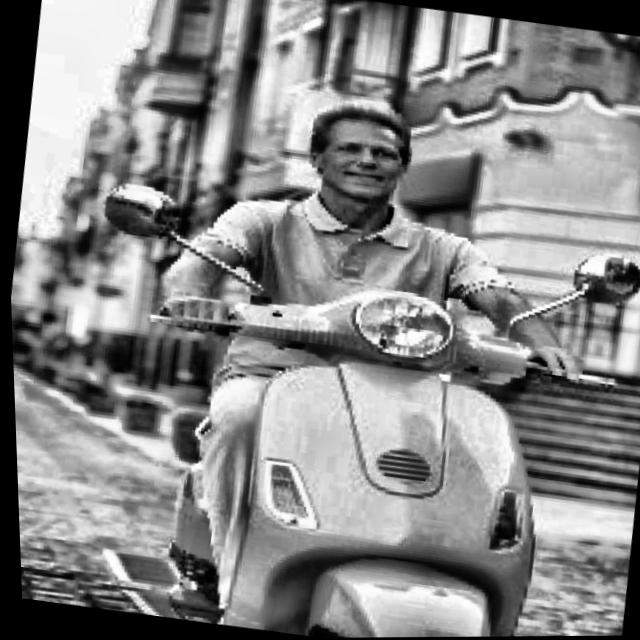motorcycle: (23, 142, 640, 640)
